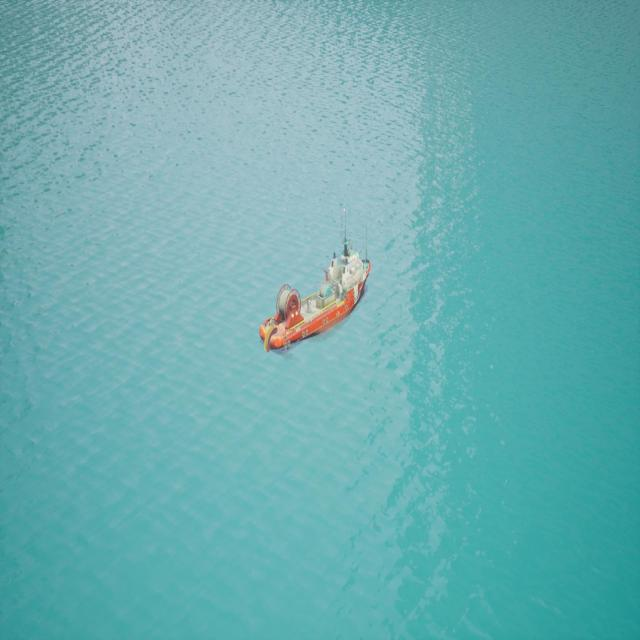tug boat: (263, 253, 371, 353)
